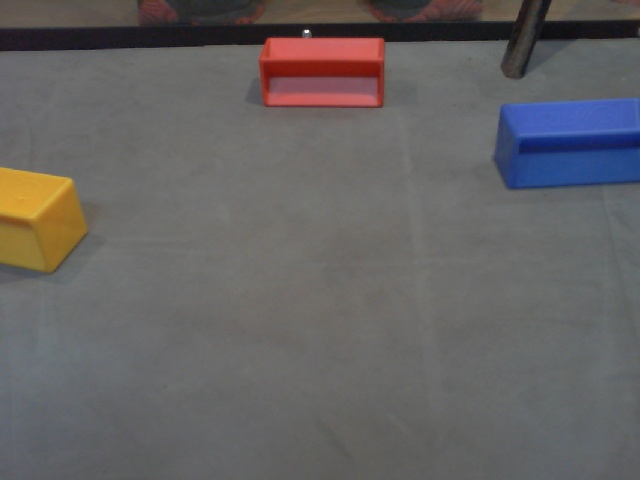BlueSample: (492, 95, 640, 190)
RedSample: (257, 34, 390, 114)
YellowSample: (1, 163, 91, 278)
